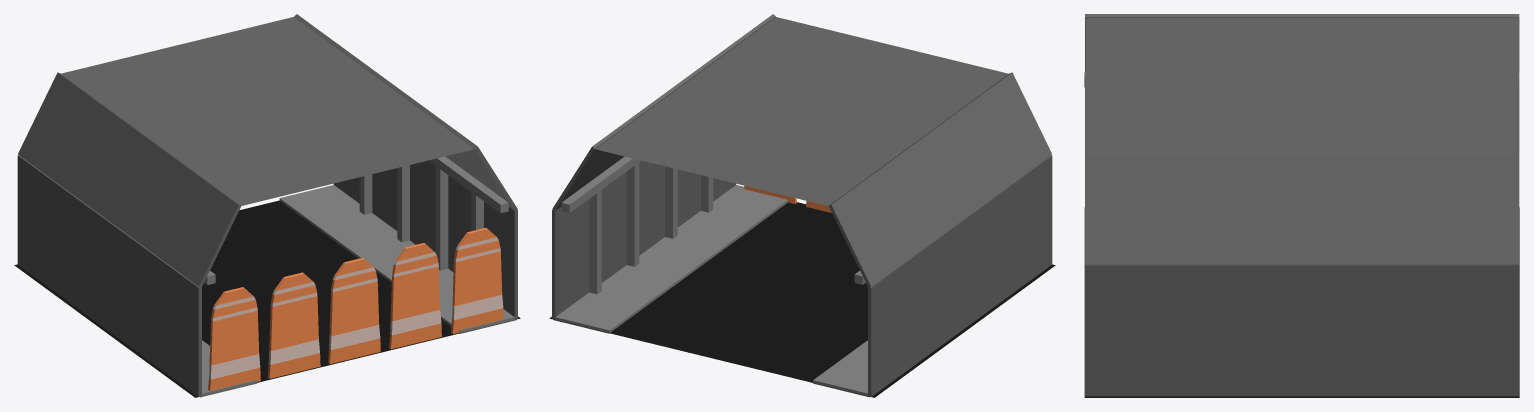
File: tunnel_prototype_closed.glb
3 views of the same model, side by side, from view 1: azimuth 30°, elevation 25°; view 2: azimuth 150°, elevation 25°; view 3: azimuth 270°, elevation 25° (orthographic). The views are drawn at different scales.
Visible parts, largest first — view 1: Ceiling, SlantedRoofRight, WallRight, Floor, WallLeft, SidewalkLeft, RoadBlock.003, RoadBlock.001, RoadBlock.002, RoadBlock, RoadBlock.004, PillarsVerticalLeft (+3 smaller); view 2: Ceiling, Floor, SlantedRoofRight, WallRight, SidewalkLeft, WallLeft, PillarsVerticalLeft, SlantedRoofLeft, SidewalkRight, PillarHorizontalLeft; view 3: Ceiling, WallLeft, SlantedRoofLeft, SlantedRoofRight, Floor.
Boxes of the visible parts, x1,y1,x2,y2 form: Ceiling: (61, 17, 474, 205); SlantedRoofRight: (18, 72, 241, 287); WallRight: (17, 155, 201, 396); Floor: (14, 200, 520, 397); WallLeft: (333, 160, 517, 319); SidewalkLeft: (279, 185, 516, 333); RoadBlock.003: (267, 272, 320, 378); RoadBlock.001: (389, 243, 441, 349); RoadBlock.002: (328, 258, 380, 363); RoadBlock: (451, 228, 503, 333); RoadBlock.004: (208, 287, 260, 390); PillarsVerticalLeft: (359, 165, 483, 270); Ceiling: (595, 17, 1008, 205); Floor: (549, 202, 1055, 397); SlantedRoofRight: (829, 72, 1051, 287); WallRight: (868, 155, 1052, 396); SidewalkLeft: (553, 185, 787, 333); WallLeft: (552, 160, 736, 319); PillarsVerticalLeft: (589, 162, 713, 294); SlantedRoofLeft: (552, 14, 775, 210); SidewalkRight: (813, 340, 869, 397); PillarHorizontalLeft: (561, 156, 641, 213); Ceiling: (1085, 18, 1518, 153); WallLeft: (1085, 264, 1519, 396); SlantedRoofLeft: (1085, 154, 1519, 264); SlantedRoofRight: (1085, 14, 1519, 71); Floor: (1084, 207, 1519, 397).
Bounding box in the file's own units: 79.68 × 42.86 × 76.94.
